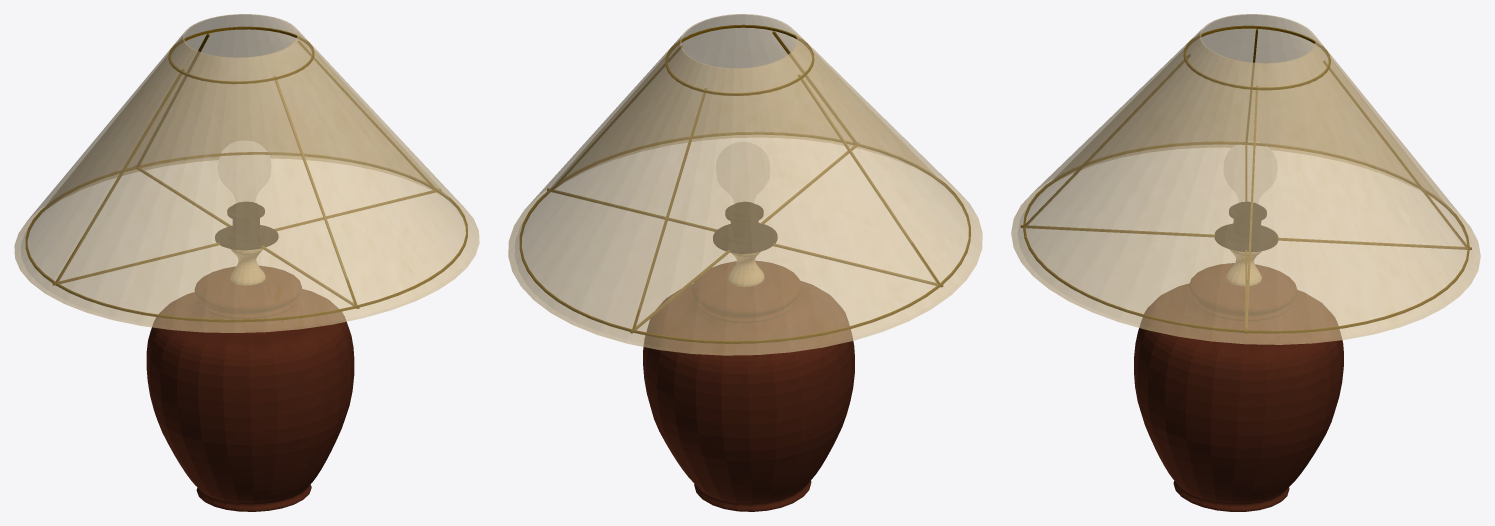
The model's file is lamp1.obj.
3 views of the same model, side by side, from view 1: azimuth 30°, elevation 25°; view 2: azimuth 150°, elevation 25°; view 3: azimuth 270°, elevation 25° (orthographic). The views are drawn at different scales.
Visible parts, largest first — view 1: Circle01, Line01, Donut01, Donut02, Line02, Rectangle2, Circle02, Rectangle1, for_lamp_0; view 2: Circle01, Line01, Donut01, Donut02, Circle02, Line02, Rectangle2, for_lamp_0, Rectangle6, Rectangle0, Rectangle4; view 3: Circle01, Line01, Donut01, Donut02, Circle02, Line02, for_lamp_0, Rectangle6, Rectangle1, Rectangle7, Rectangle3, Rectangle5.
Boxes of the visible parts, x1,y1,x2,y2 form: Circle01: [14, 14, 479, 332]; Line01: [146, 266, 354, 511]; Donut01: [25, 152, 467, 322]; Donut02: [168, 26, 314, 84]; Line02: [230, 248, 265, 285]; Rectangle2: [55, 69, 184, 282]; Circle02: [215, 225, 278, 249]; Rectangle1: [274, 76, 357, 305]; for_lamp_0: [232, 202, 259, 236]; Circle01: [508, 14, 982, 355]; Line01: [643, 261, 854, 511]; Donut01: [519, 132, 970, 343]; Donut02: [665, 24, 814, 95]; Circle02: [713, 223, 777, 253]; Line02: [729, 252, 763, 286]; Rectangle2: [798, 74, 940, 284]; for_lamp_0: [730, 202, 758, 238]; Rectangle6: [632, 88, 706, 329]; Rectangle0: [773, 243, 943, 287]; Rectangle4: [547, 188, 716, 231]; Circle01: [1011, 14, 1480, 344]; Line01: [1134, 263, 1343, 511]; Donut01: [1023, 142, 1469, 333]; Donut02: [1183, 25, 1330, 90]; Circle02: [1214, 224, 1278, 251]; Line02: [1226, 249, 1261, 285]; for_lamp_0: [1233, 202, 1261, 237]; Rectangle6: [1323, 60, 1468, 247]; Rectangle1: [1024, 54, 1190, 225]; Rectangle7: [1278, 238, 1471, 249]; Rectangle3: [1020, 225, 1214, 236]; Rectangle5: [1245, 86, 1257, 329].
Size of the model in its own units: 105 by 112 by 105.
6 materials, 3 textured.
